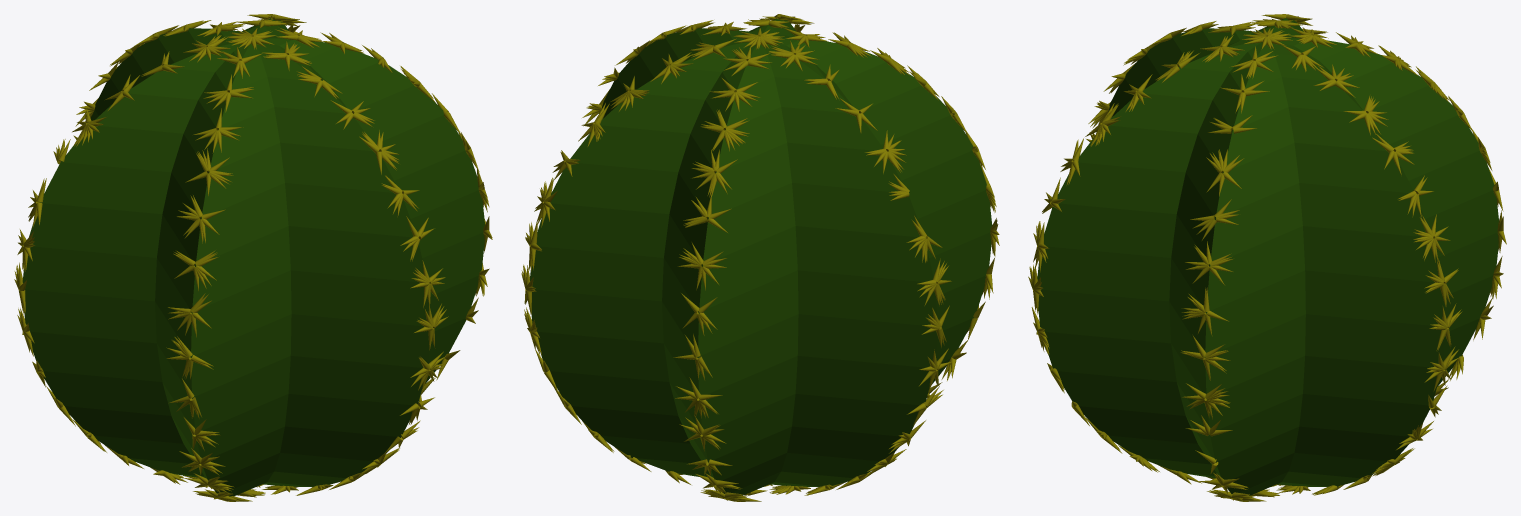
File: biznaga ganchida.glb
3 views of the same model, side by side, from view 1: azimuth 30°, elevation 25°; view 2: azimuth 150°, elevation 25°; view 3: azimuth 270°, elevation 25° (orthographic).
Visible parts, largest first — view 1: Sphere.001; view 2: Sphere.001; view 3: Sphere.001.
Boxes of the visible parts, box(x1,y1,x2,y2) form: Sphere.001: box(22, 19, 484, 496); Sphere.001: box(530, 18, 992, 495); Sphere.001: box(1037, 18, 1498, 495).
Size of the model in its own units: 1.99 by 2.03 by 1.98.
